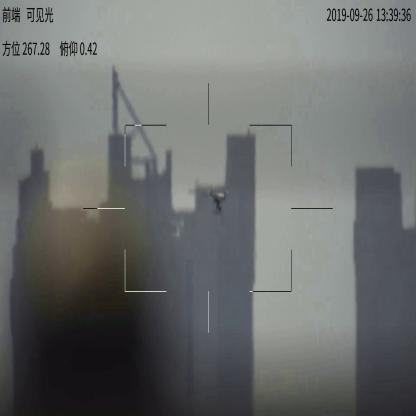uav: (206, 189, 231, 214)
